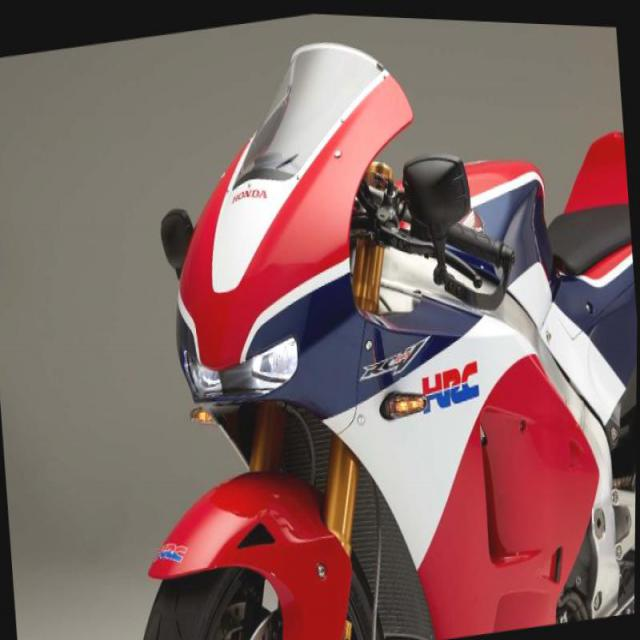HRC RCV 213: (85, 2, 639, 639)
